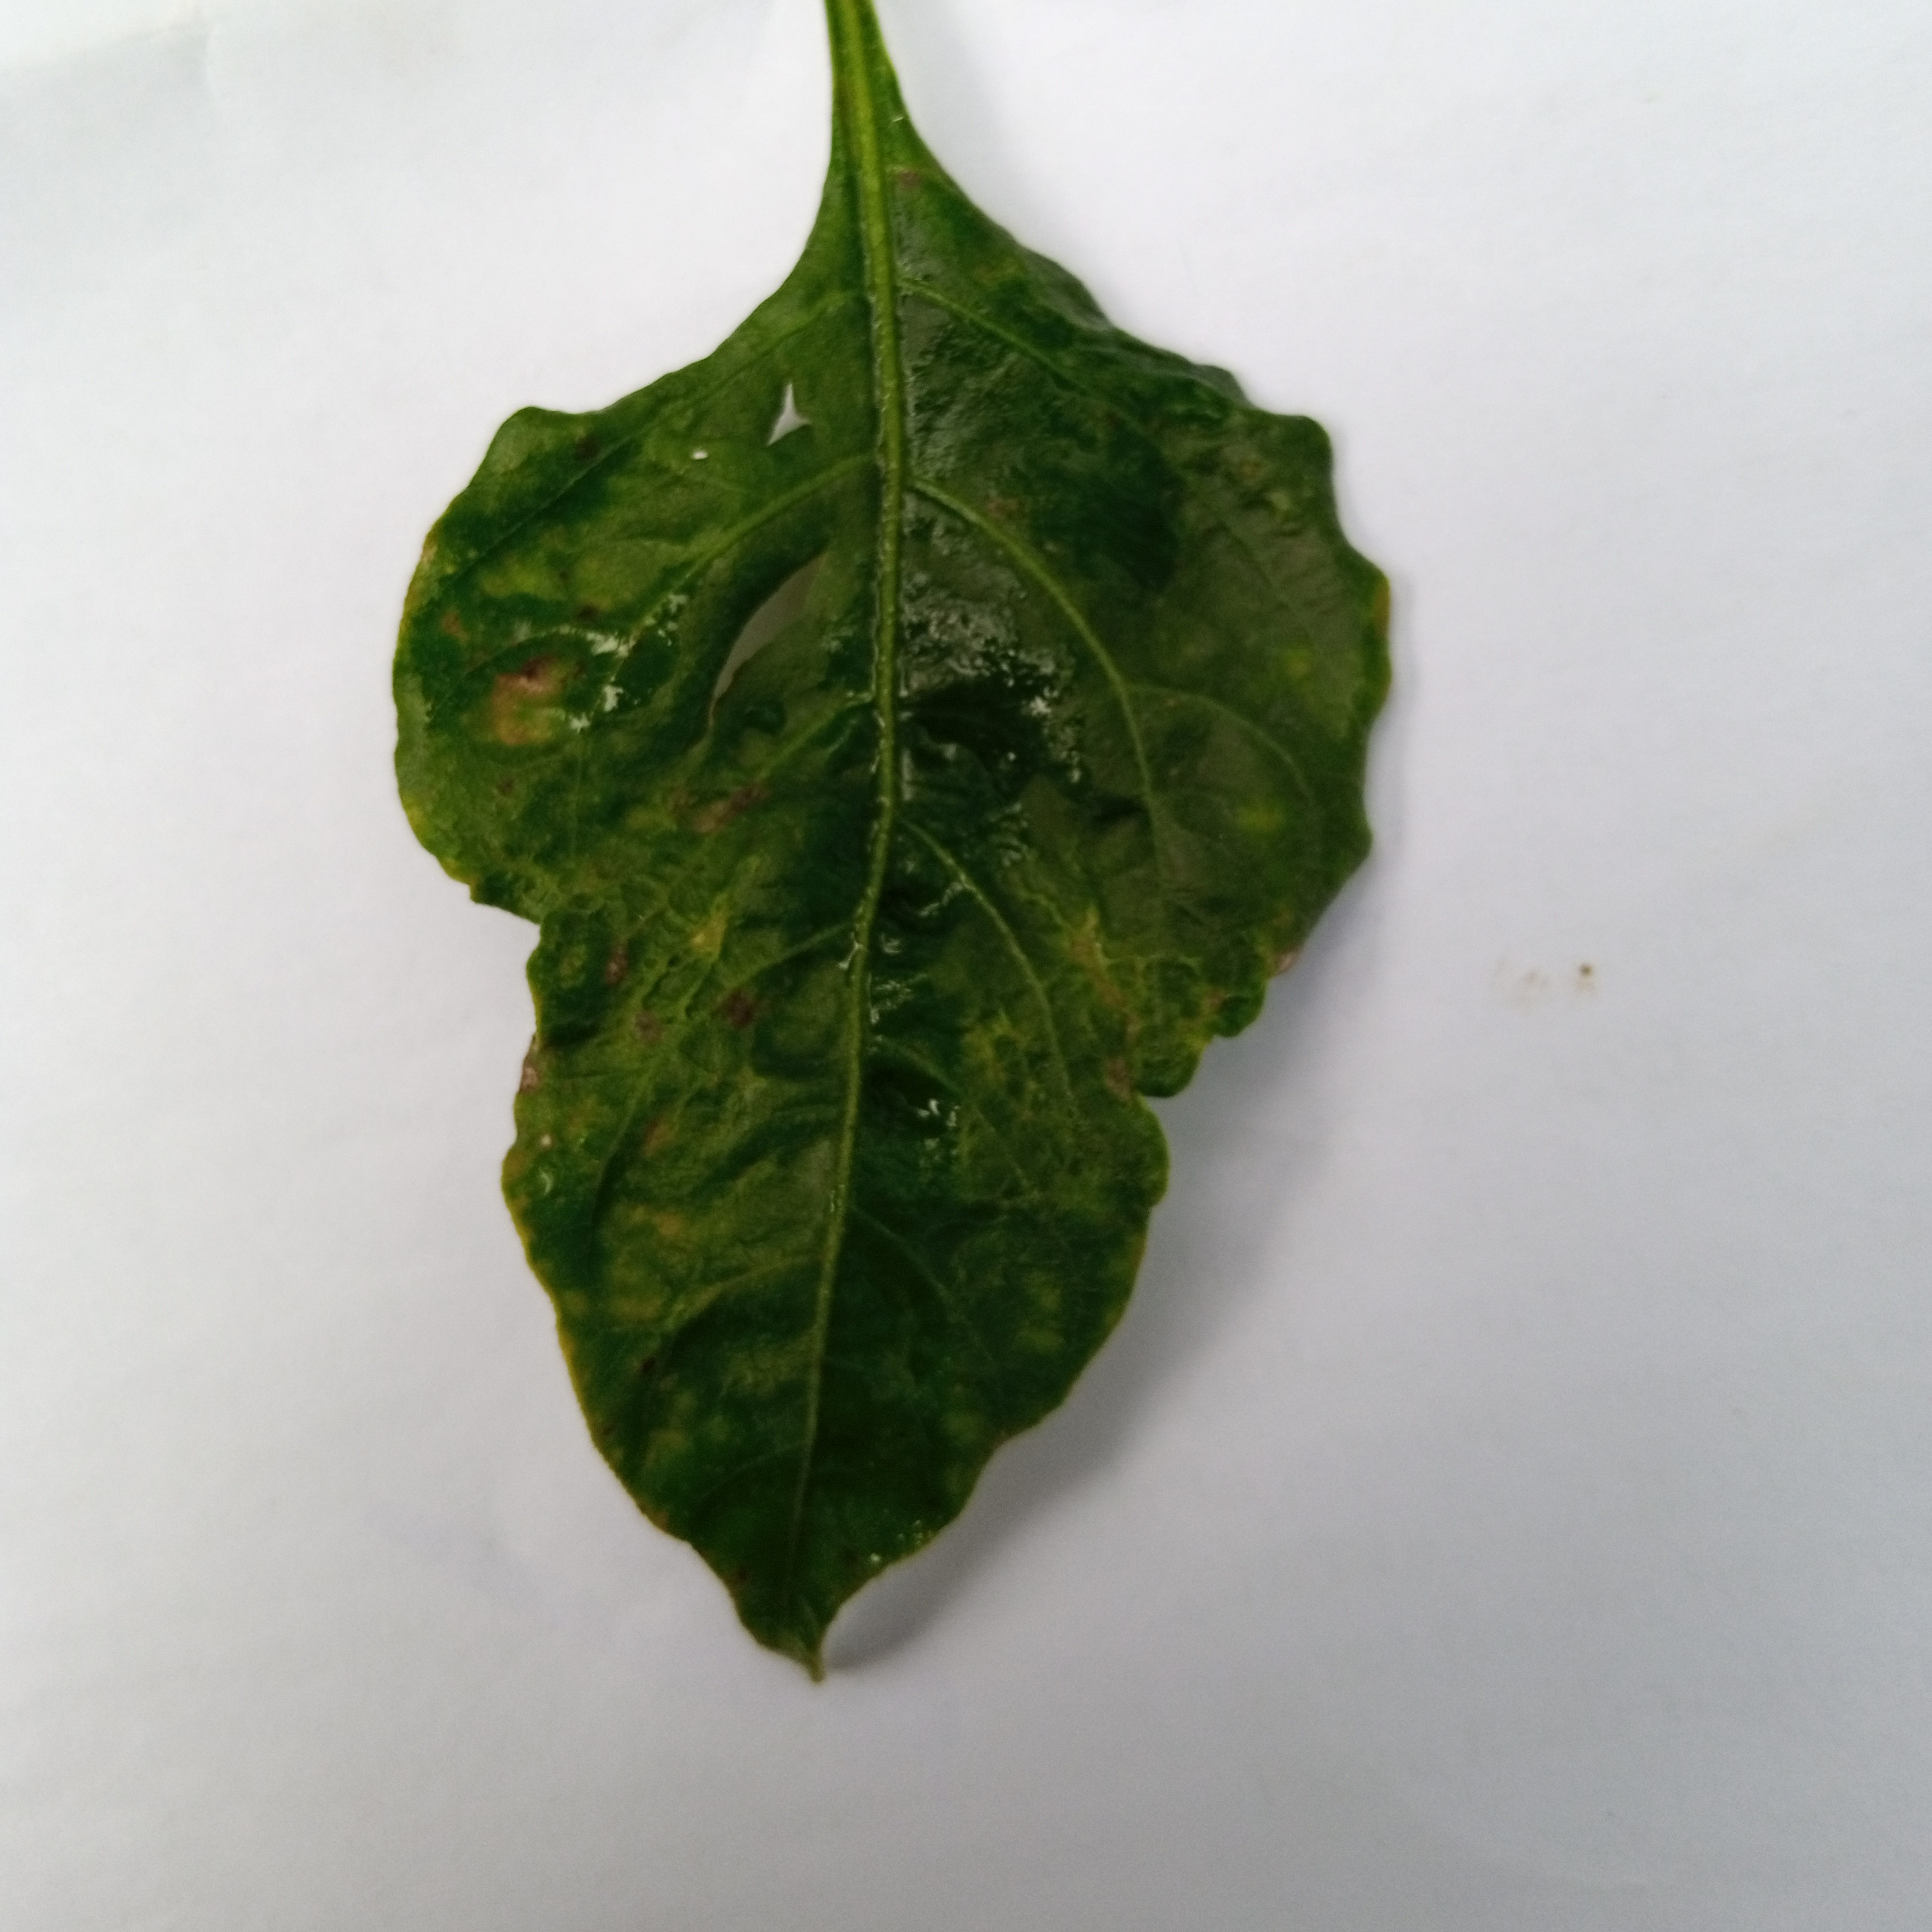Leaf: (288, 136, 1548, 1707)
